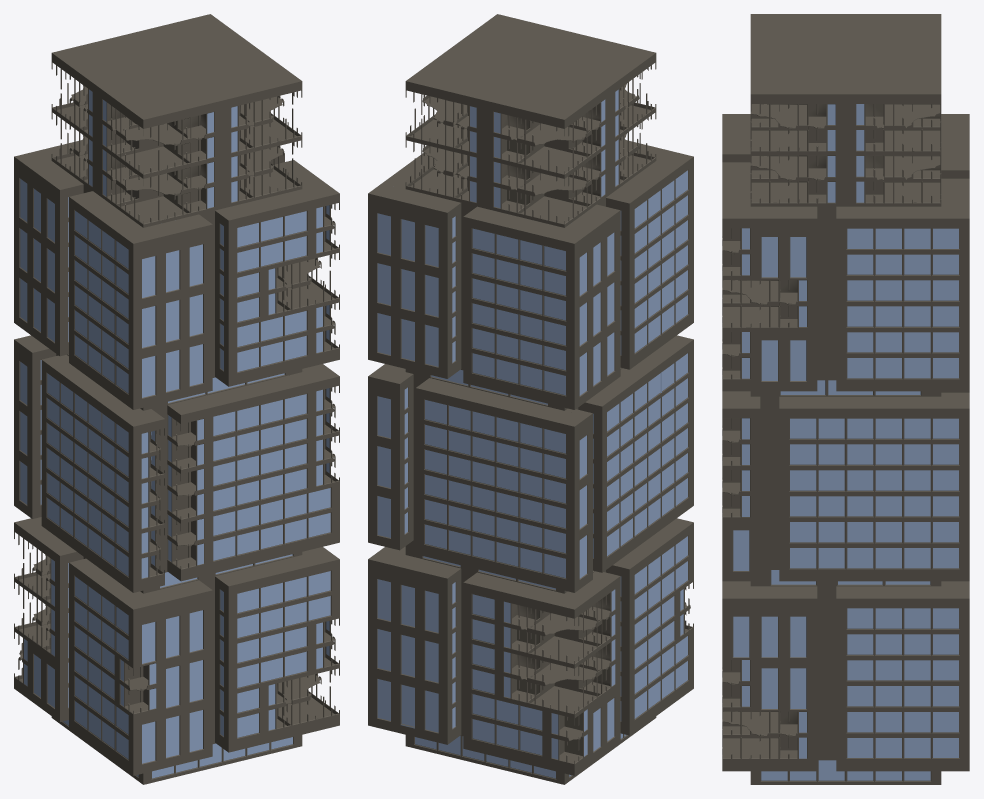
File: Imeuble3.fbx
3 renders of one model, left to right at view 1: azimuth 30°, elevation 25°; view 2: azimuth 150°, elevation 25°; view 3: azimuth 270°, elevation 25°, orthographic. The views are drawn at different scales.
Visible parts, largest first — view 1: polySurface2289; view 2: polySurface2289; view 3: polySurface2289.
Boxes of the visible parts, left/top/right/bottom form: polySurface2289: left=14, top=14, right=339, bottom=784; polySurface2289: left=368, top=14, right=693, bottom=784; polySurface2289: left=722, top=14, right=969, bottom=784.
Bounding box in the file's own units: 2.6 × 8 × 2.6.
